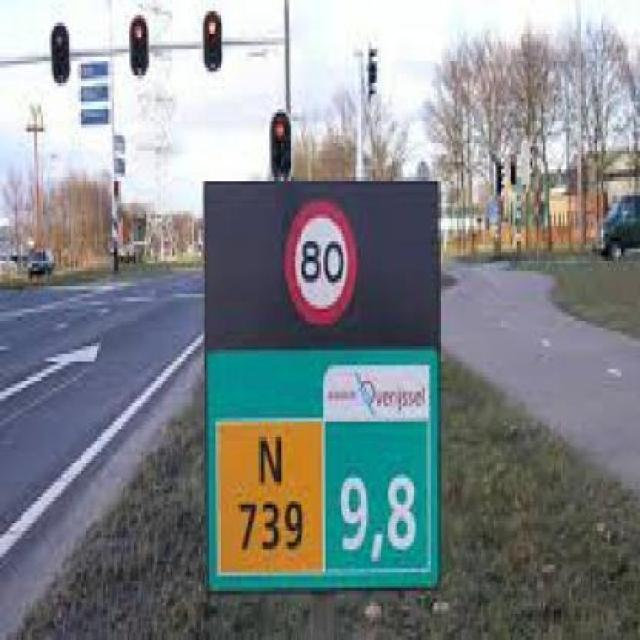forb_speed_over_80: (286, 202, 357, 321)
